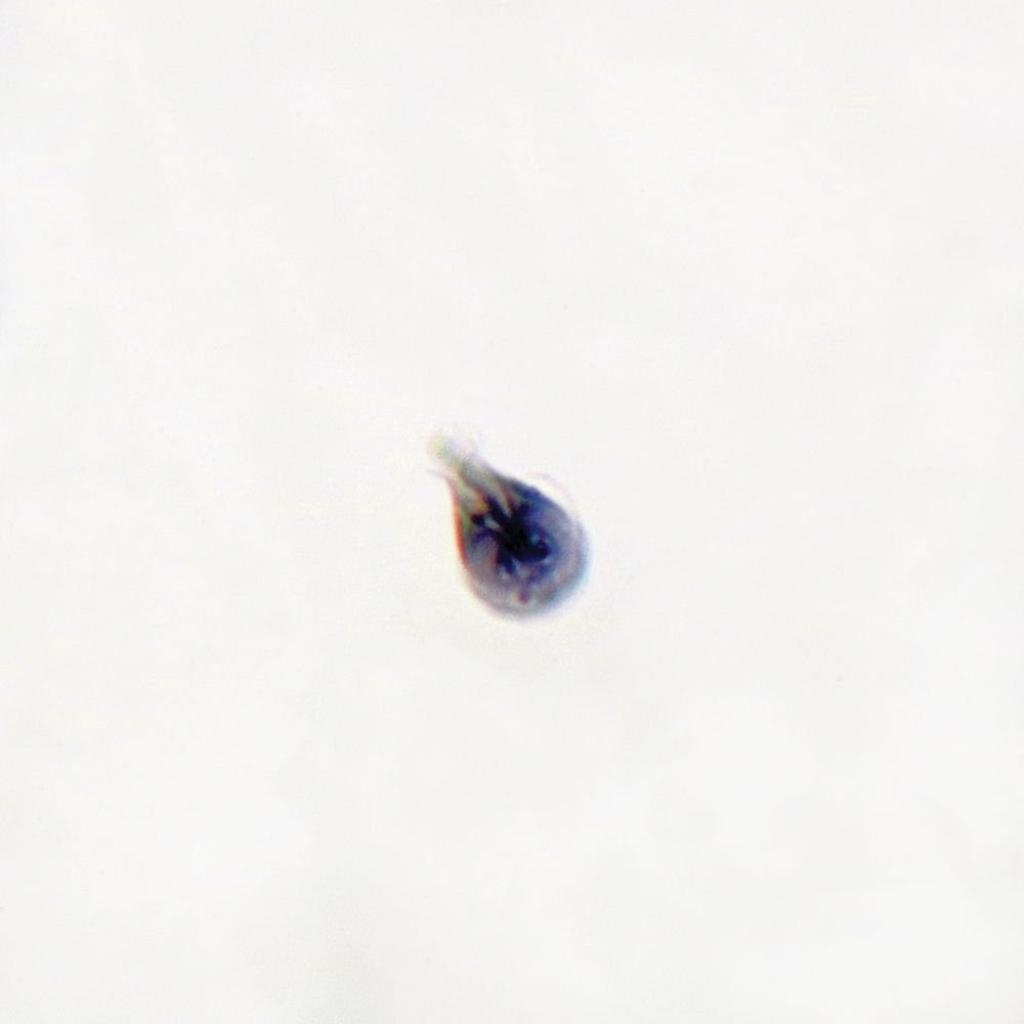Giardia: (409, 416, 599, 628)
